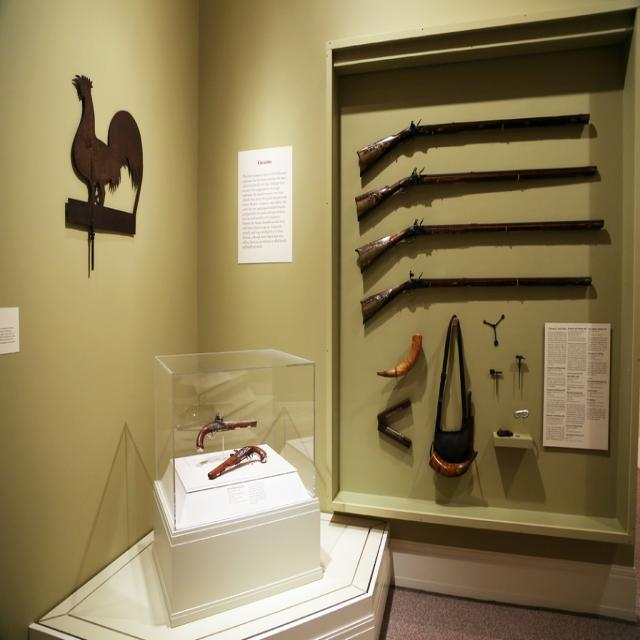Chicken: (67, 74, 133, 213)
